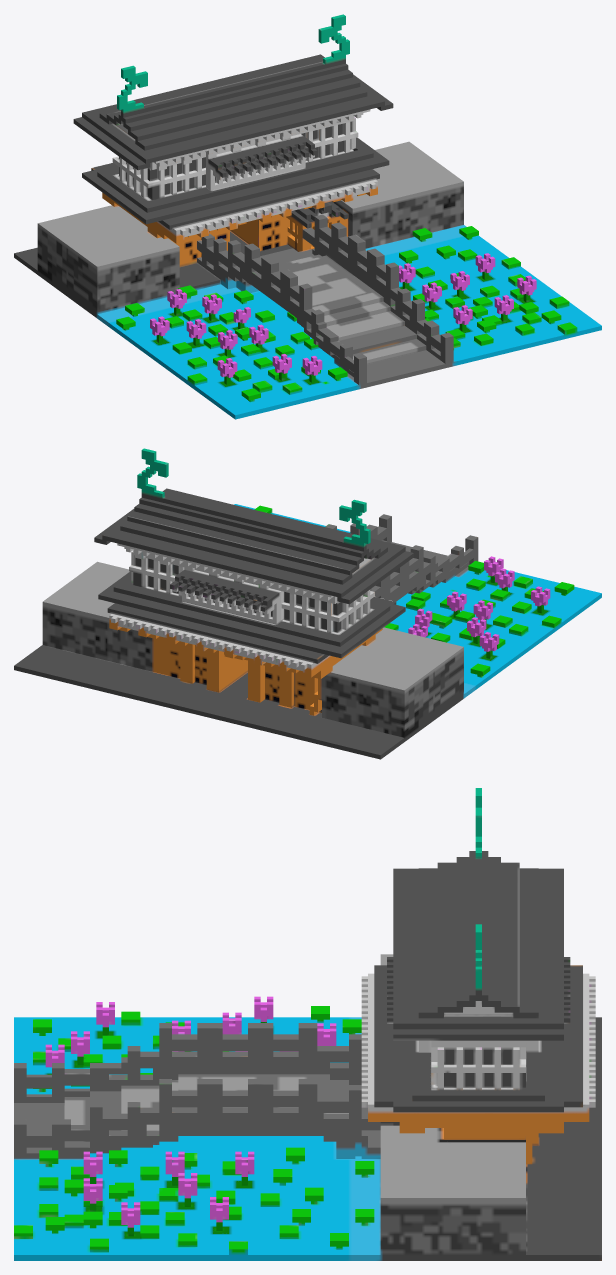
The model's file is goromon.glb.
3 renders of one model, top to bottom at view 1: azimuth 30°, elevation 25°; view 2: azimuth 150°, elevation 25°; view 3: azimuth 270°, elevation 25°, orthographic. The views are drawn at different scales.
Parts seen in each view (by area): view 1: goromon; view 2: goromon; view 3: goromon.
Part boxes in pixels (x1,y1,x2,y2): goromon: [14, 14, 601, 419]; goromon: [14, 448, 601, 759]; goromon: [14, 788, 601, 1260].
Bounding box in the file's own units: 1.78 × 0.96 × 1.86.
Materials: 1 (1 with a texture image).
